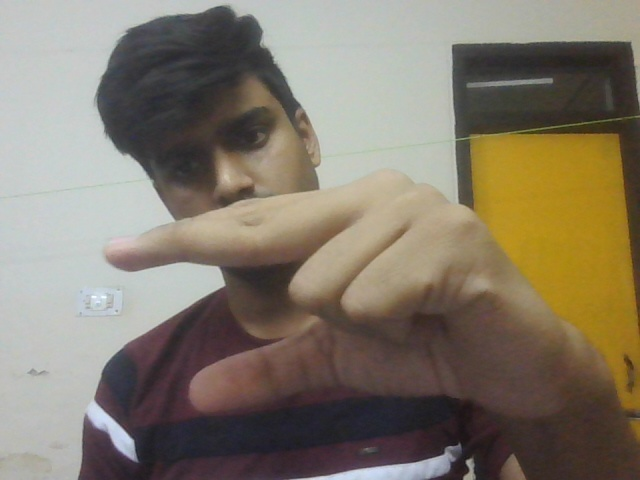no: (100, 163, 627, 446)
